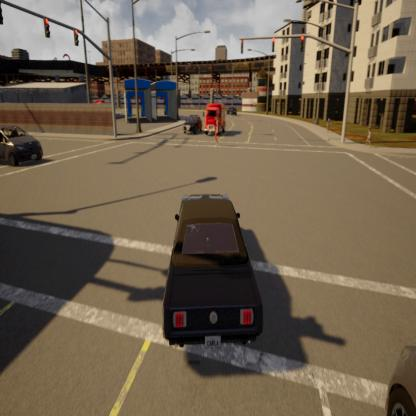Cars: (158, 170, 272, 368), (378, 322, 416, 416), (0, 116, 50, 166), (204, 103, 227, 136), (186, 113, 202, 138), (226, 104, 240, 117)
Pedestrian: (210, 113, 222, 148)
